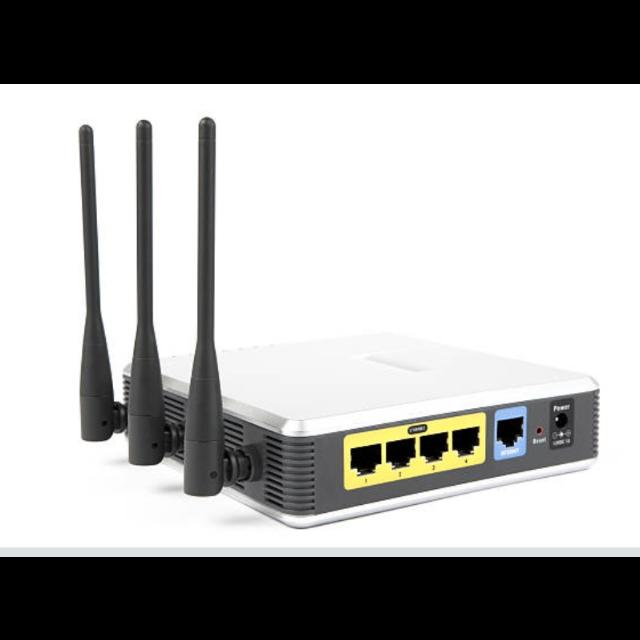Router: (79, 116, 599, 528)
